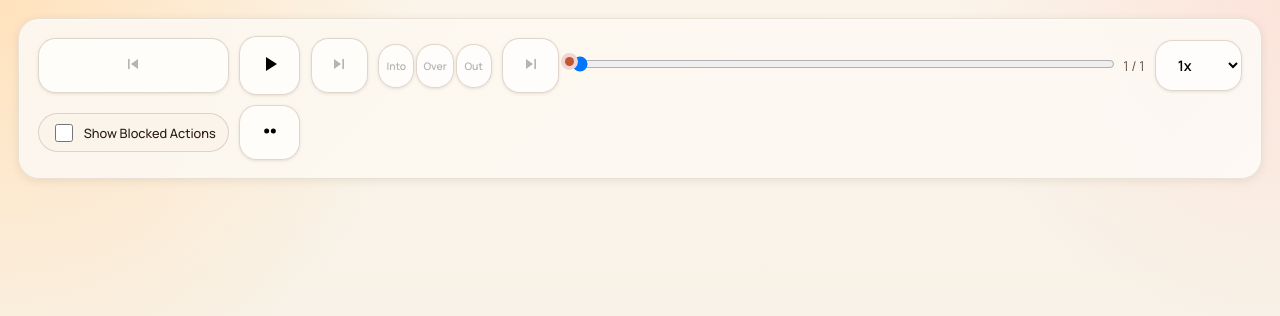
it: SessionReplay › shows an empty breakpoint hit state when the replay scope has no hits
The image size is (1280, 316).
Click the button named "Toggle breakpoint hits panel": click(270, 133) [239,105,300,160]
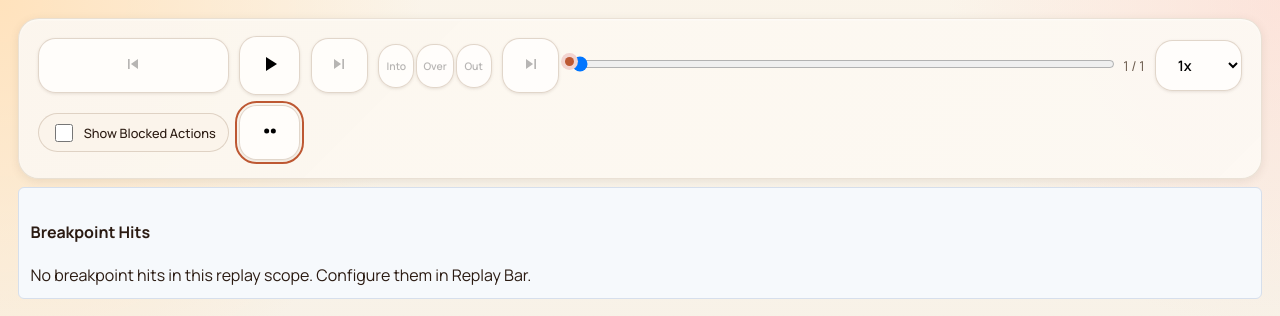
Check: the text "No breakpoint hits in this replay scope. Configure them in Replay Bar." is shown, box [31,264,531,286]
